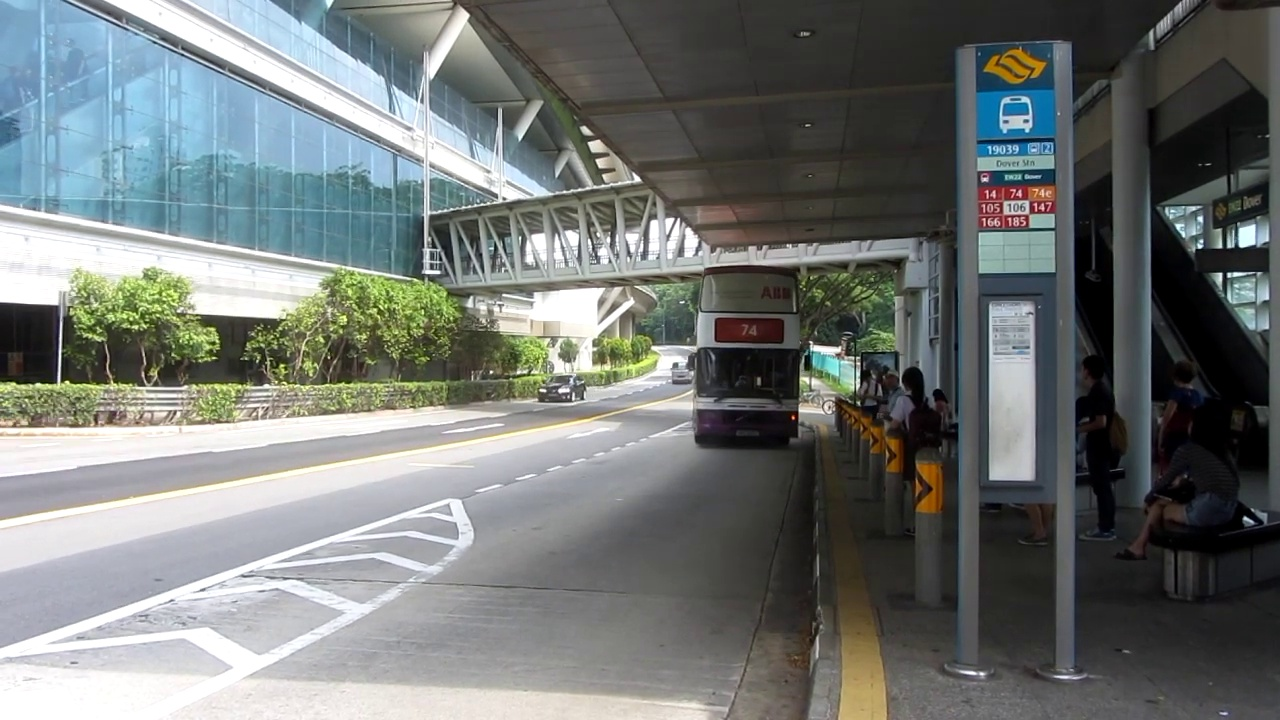bus panel: (714, 316, 785, 344)
